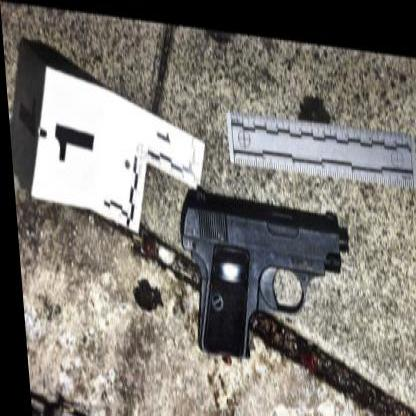pistol: (177, 178, 351, 362)
